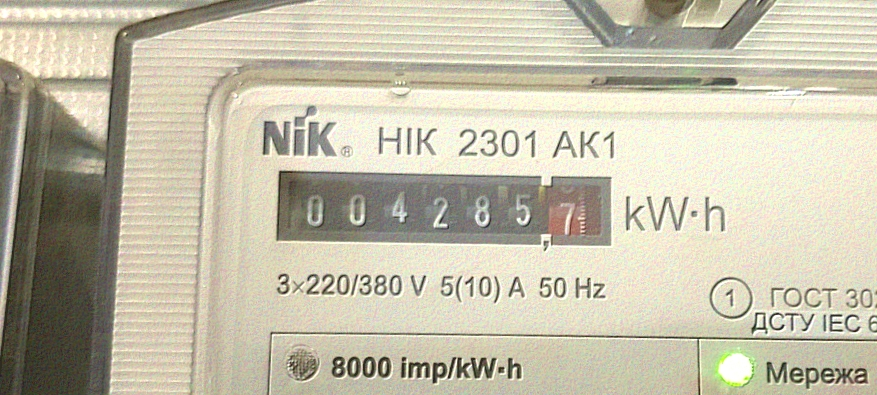0: (346, 190, 369, 228), (304, 191, 326, 228)
2: (430, 194, 451, 230)
4: (391, 188, 409, 224)
5: (512, 190, 534, 227)
7: (556, 200, 577, 236)
8: (471, 192, 493, 230)
screen: (261, 153, 629, 266)
